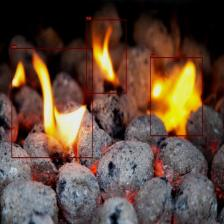fire: (11, 48, 93, 158), (150, 57, 202, 136), (86, 19, 126, 94)
